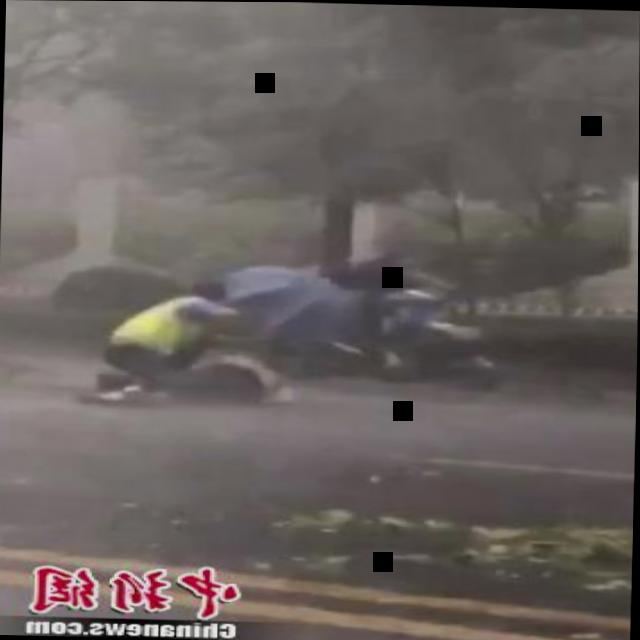Fall-Detected: (121, 346, 303, 406)
